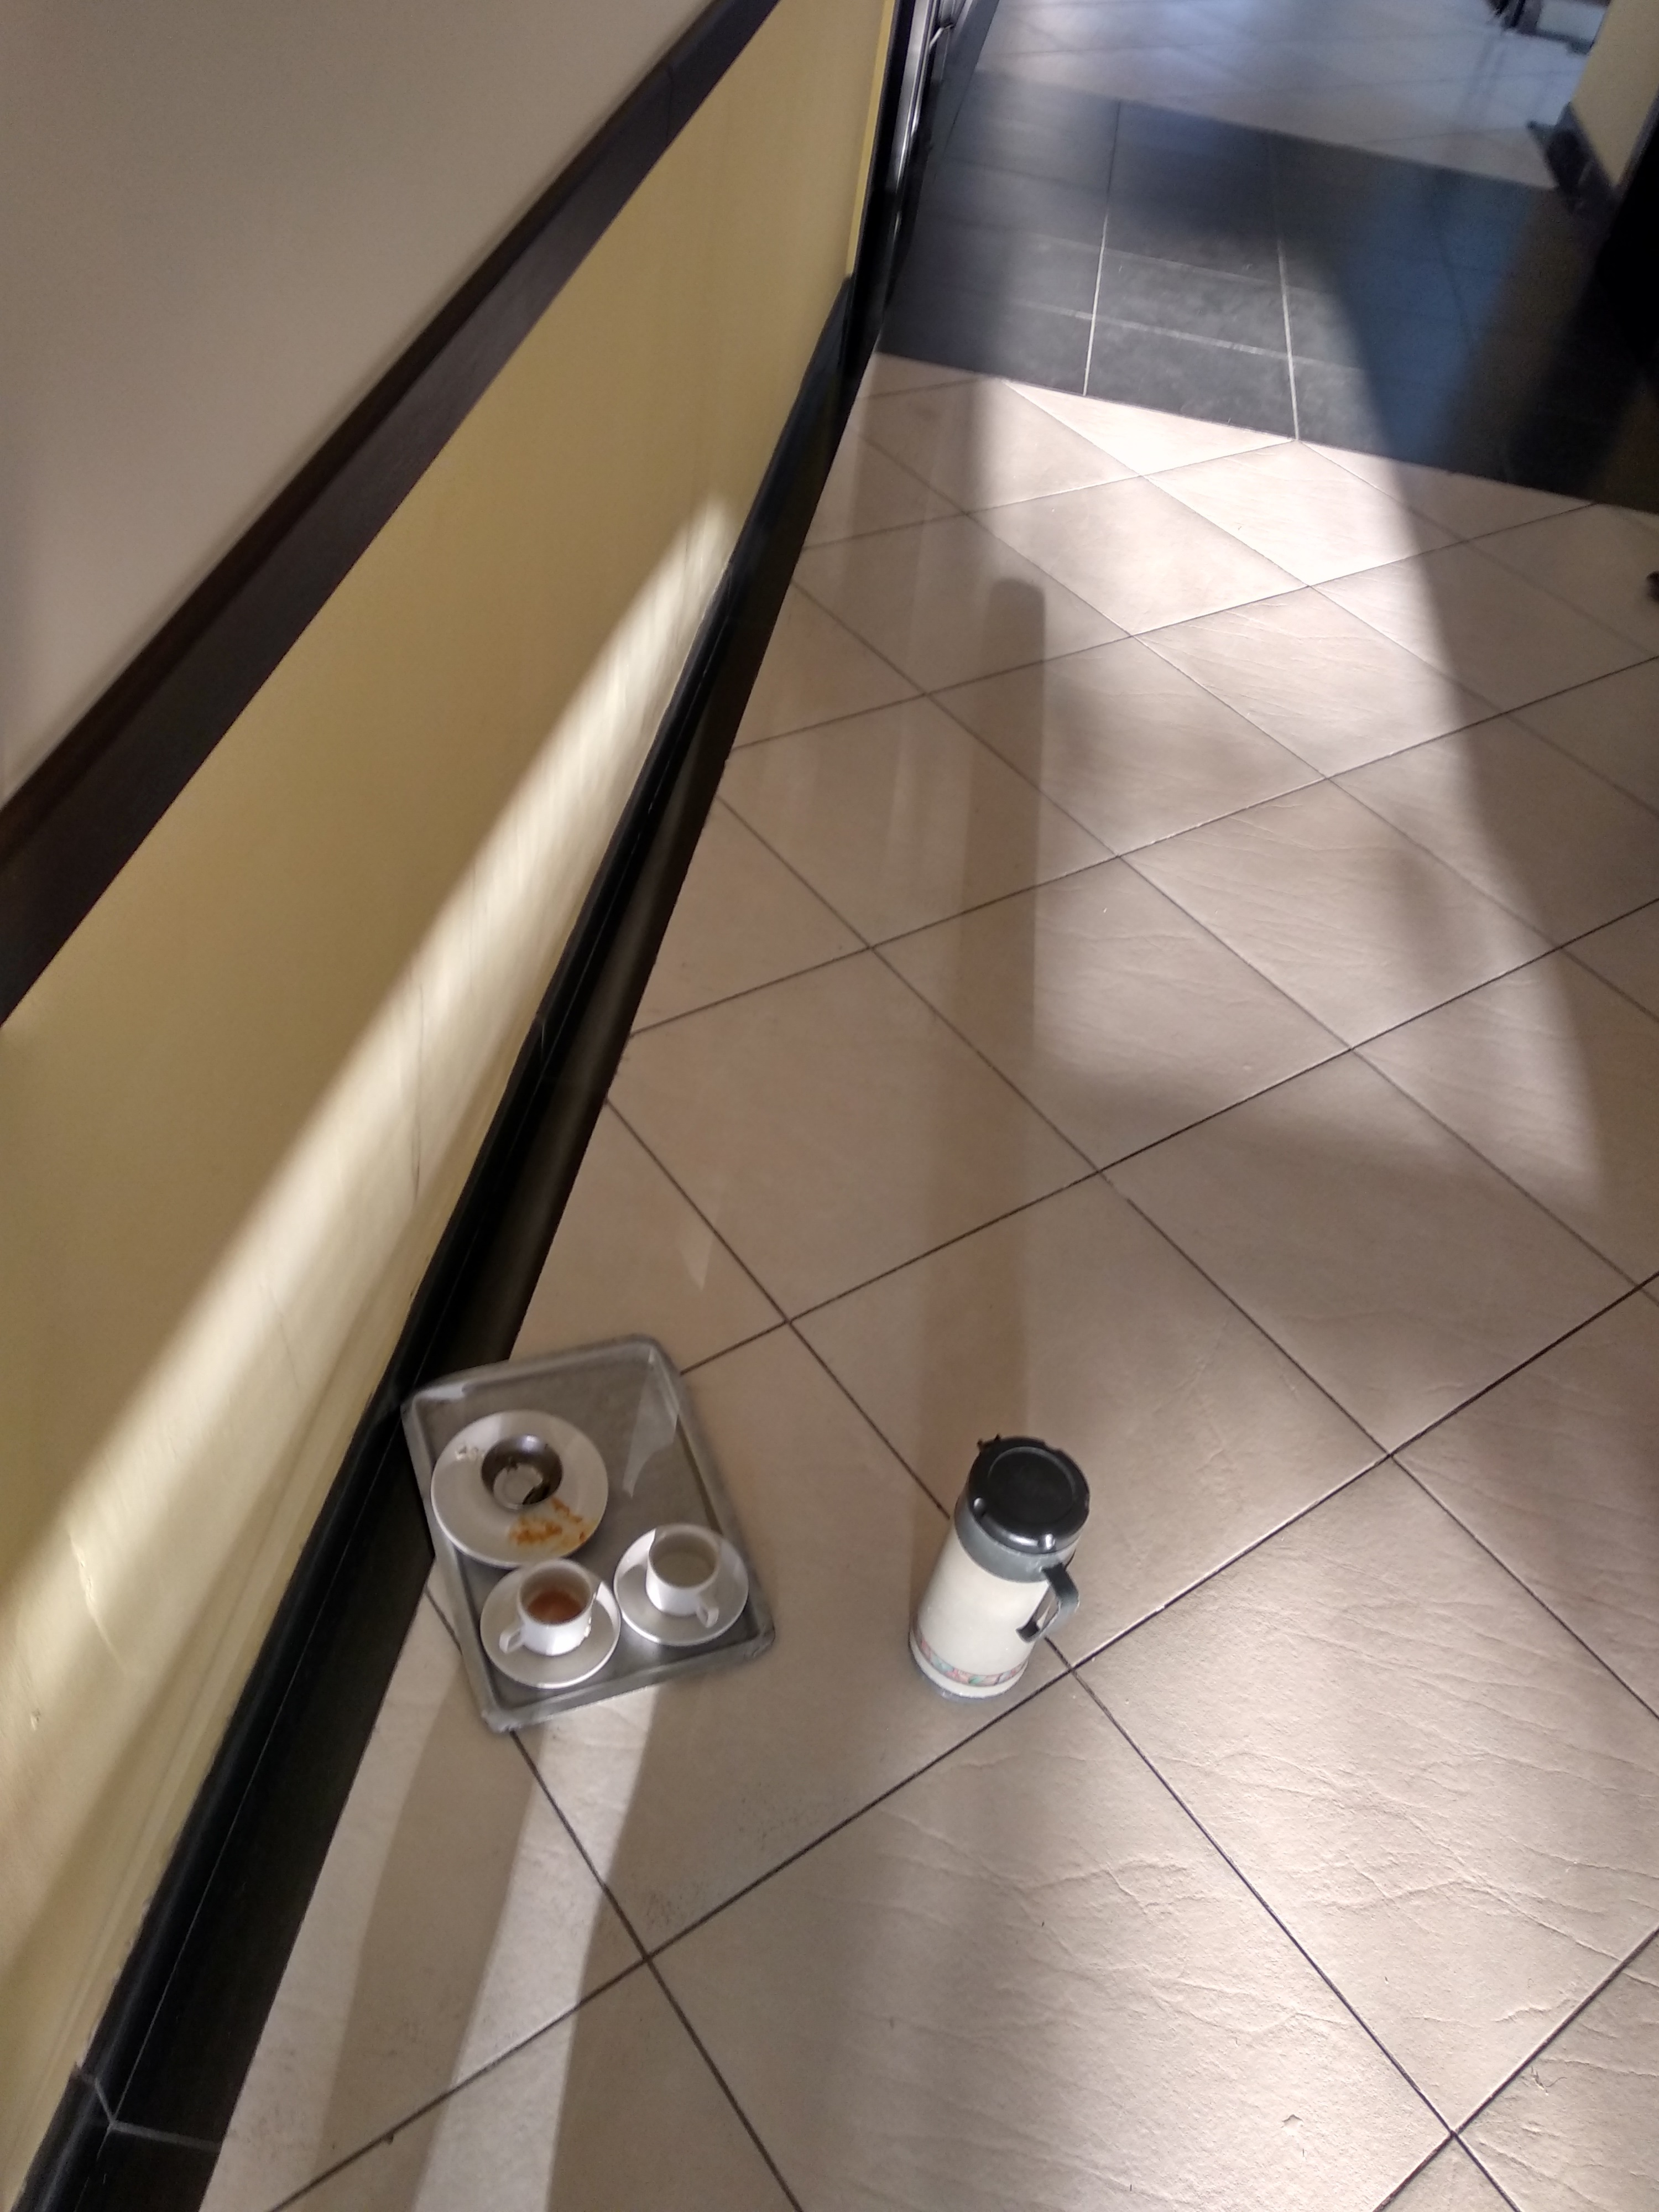CUP: (617, 1517, 748, 1637), (484, 1557, 612, 1672), (481, 1433, 568, 1508)
JUG: (948, 1456, 1073, 1695)
